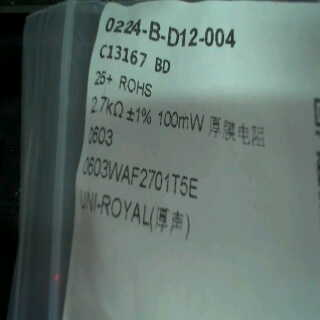2.7kR: (89, 95, 126, 119)
